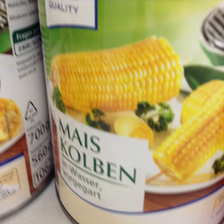corn: (36, 1, 223, 223)
